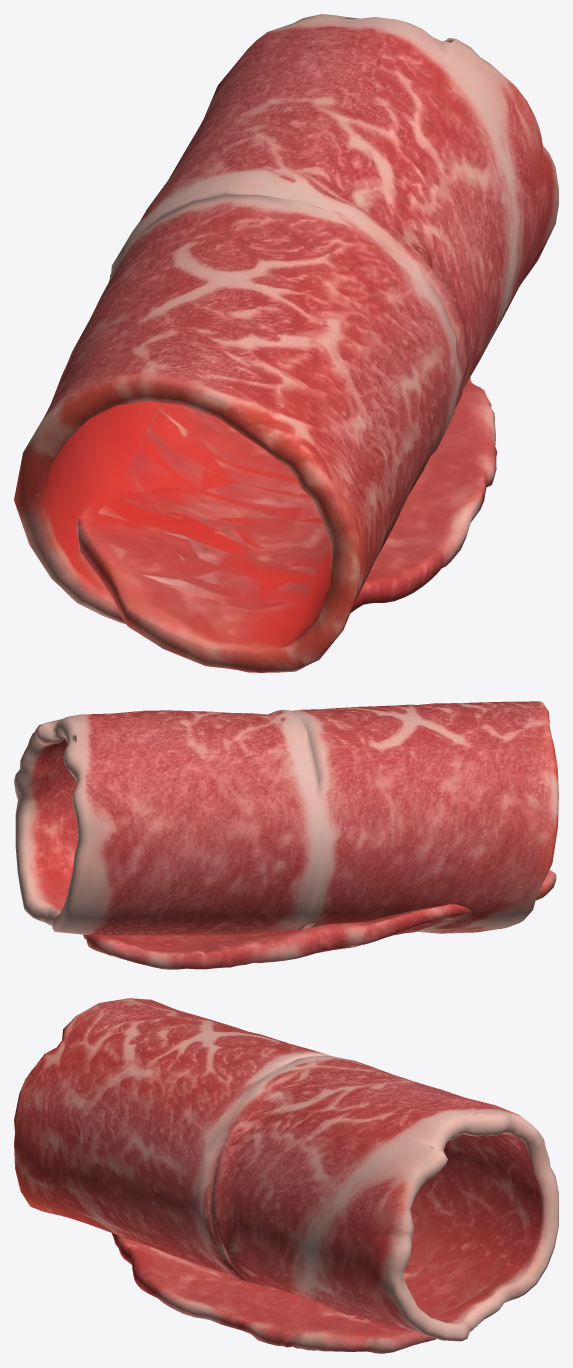
3 renders of one model, top to bottom at view 1: azimuth 30°, elevation 25°; view 2: azimuth 150°, elevation 25°; view 3: azimuth 270°, elevation 25°, orthographic. The views are drawn at different scales.
Visible parts, largest first — view 1: Beef Slice; view 2: Beef Slice; view 3: Beef Slice.
Part boxes in pixels (x1,y1,x2,y2): Beef Slice: (14, 14, 558, 672); Beef Slice: (14, 701, 558, 969); Beef Slice: (14, 998, 558, 1353).
Size of the model in its own units: 0.9707 by 0.4863 by 0.998.
1 material, 1 textured.
